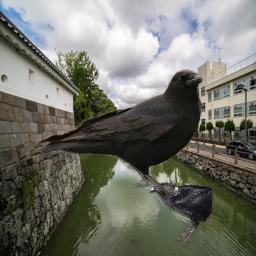Crow: (27, 69, 203, 196), (148, 182, 212, 245)
